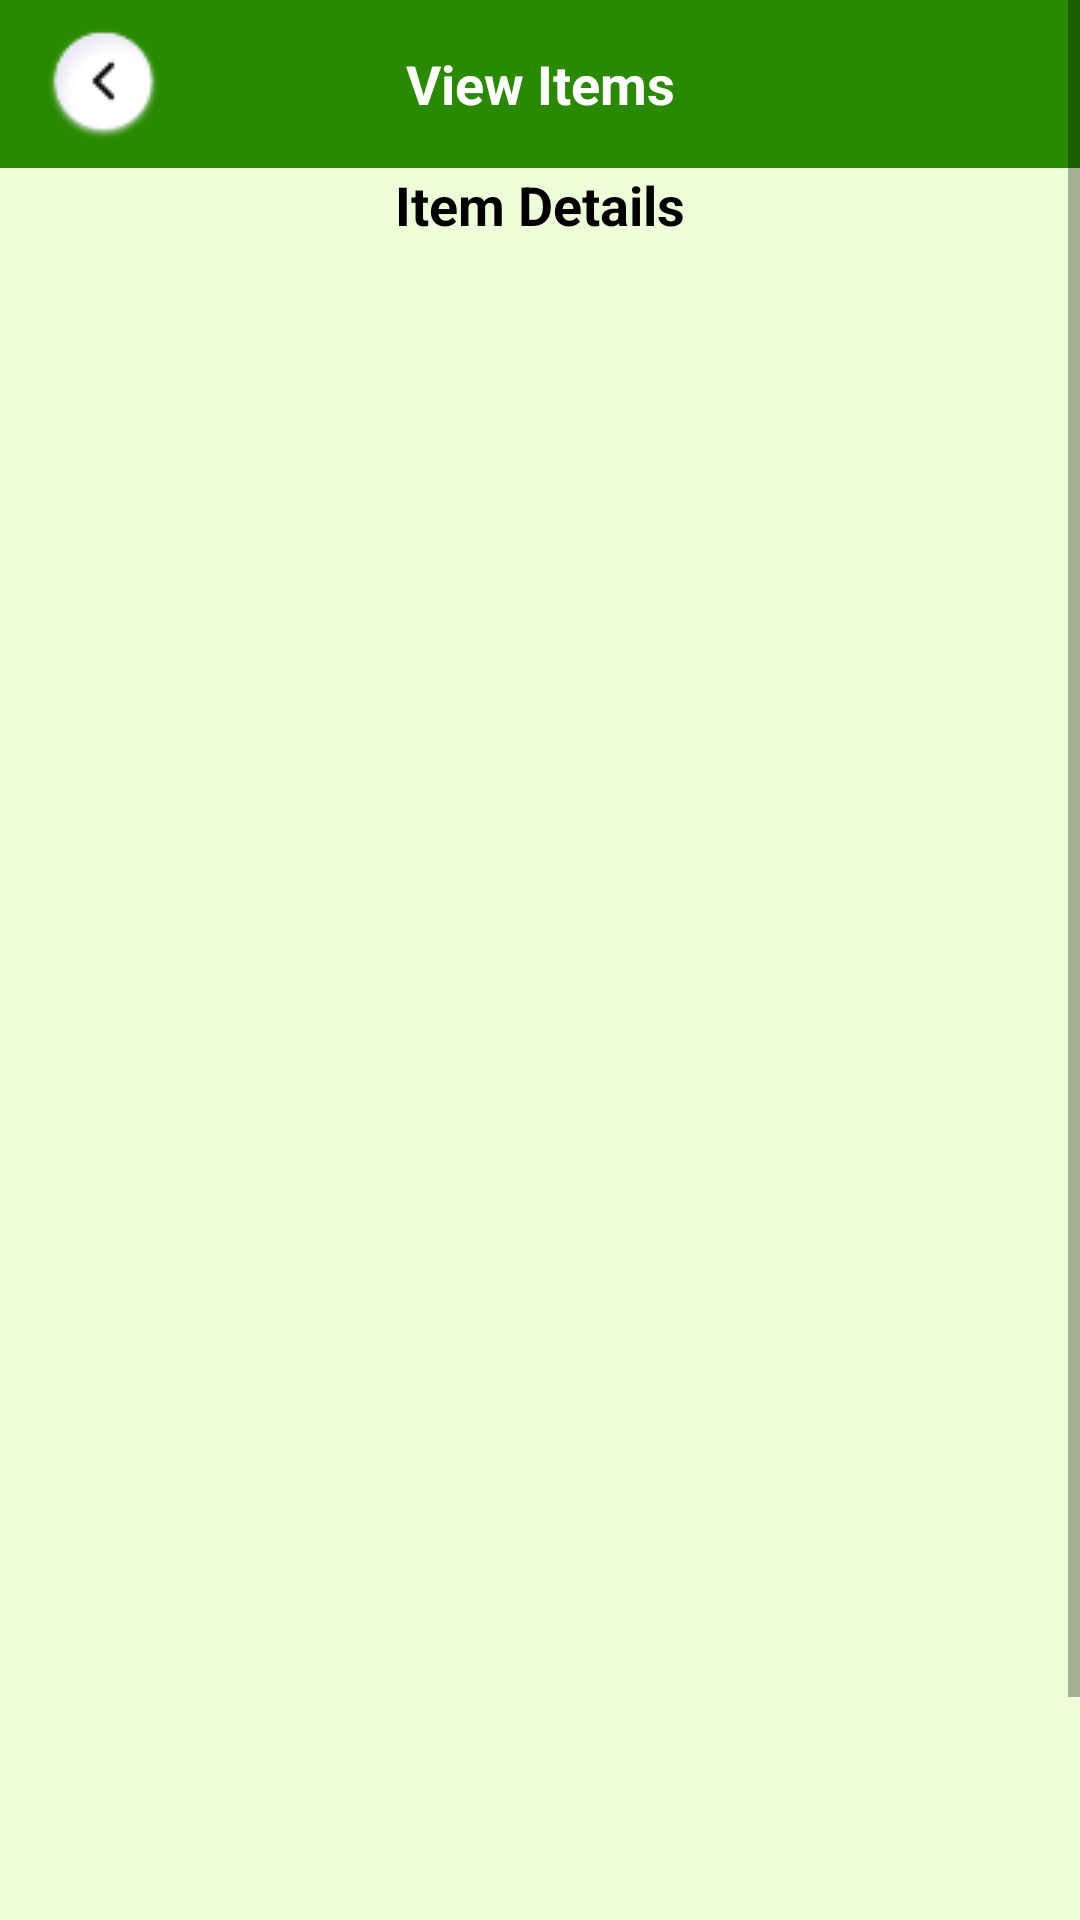

Where to tap for icons on this 1080 x 1920 app screen, as (x,y):
back: (103,84)
